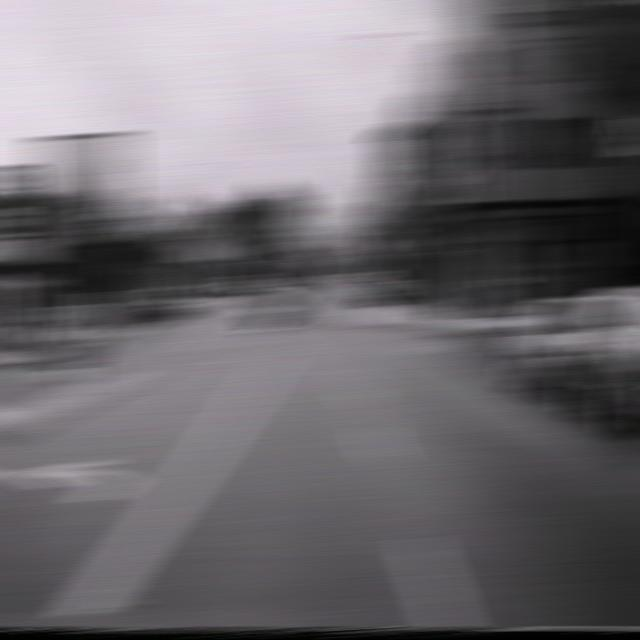speedLimit35: (81, 194, 121, 241), (422, 232, 452, 256)
